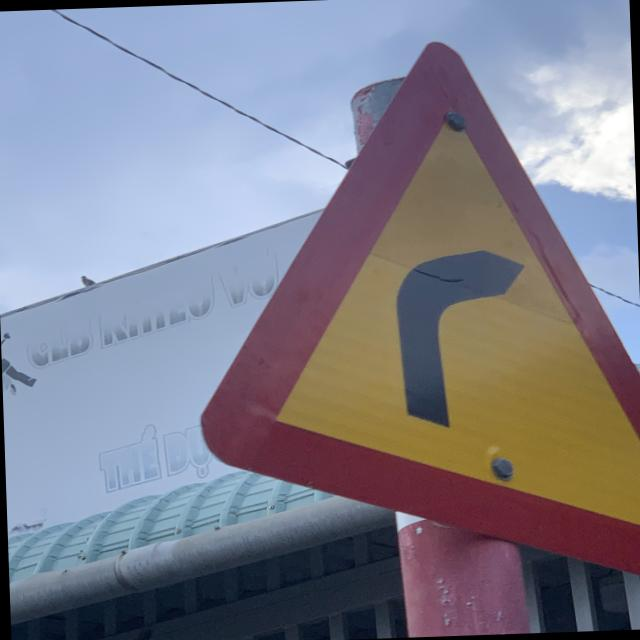Duong_Nguoi_Di_Bo_Cat_Ngang: (188, 35, 640, 601)
